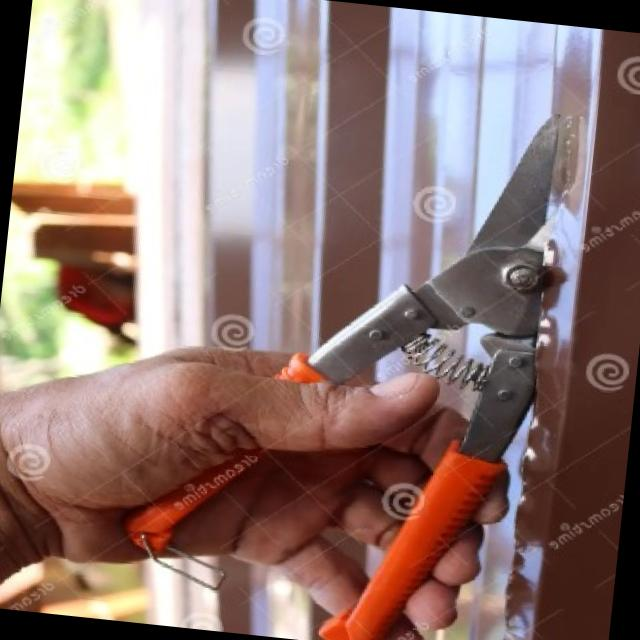not-gloved: (0, 317, 513, 640)
